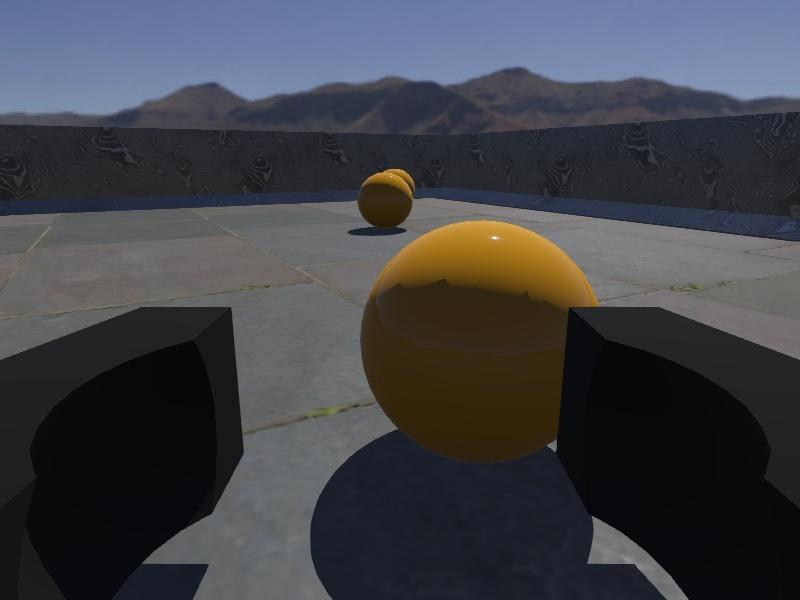orange ball: (357, 171, 414, 229)
